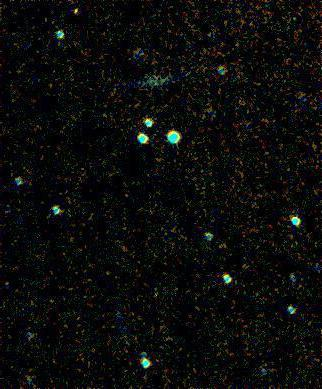star: (64, 0, 94, 26)
